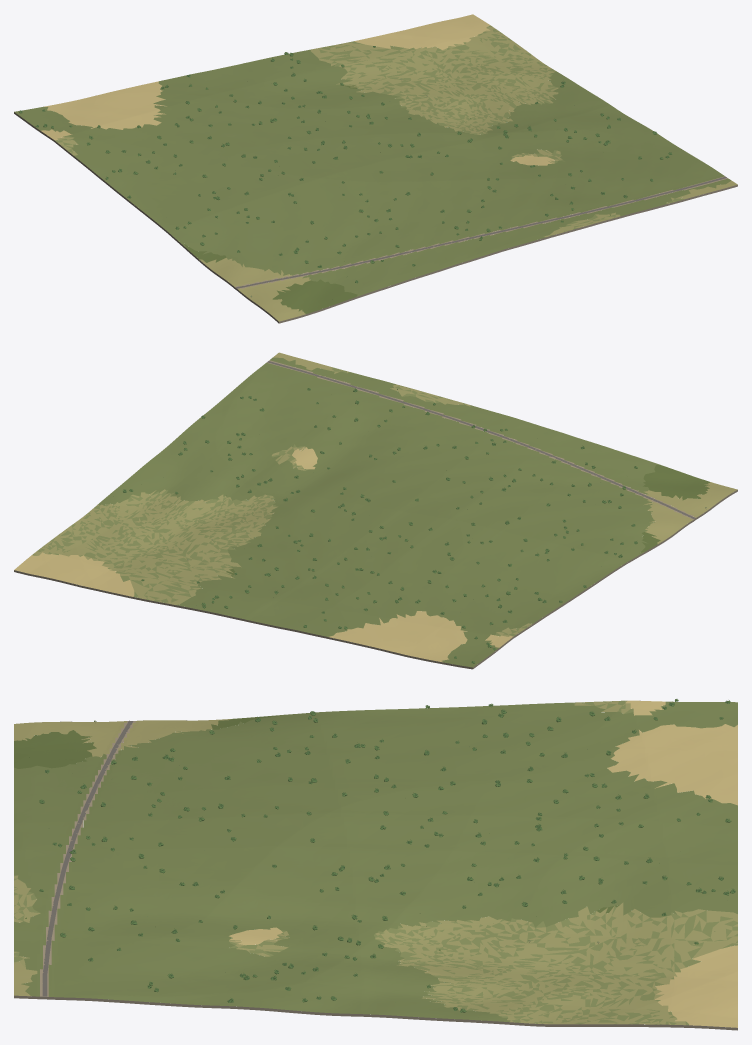
Rendered from parca_+4_-2-yakin.glb.
3 views of the same model, one above another, from view 1: azimuth 30°, elevation 25°; view 2: azimuth 150°, elevation 25°; view 3: azimuth 270°, elevation 25° (orthographic). The views are drawn at different scales.
Visible parts, largest first — view 1: parca_+4_-2_arazi, parca_+4_-2_bitkiler, parca_+4_-2_yollar; view 2: parca_+4_-2_arazi, parca_+4_-2_bitkiler, parca_+4_-2_yollar; view 3: parca_+4_-2_arazi, parca_+4_-2_bitkiler, parca_+4_-2_yollar.
Part boxes in pixels (bbox=[...]): parca_+4_-2_arazi: bbox=[14, 14, 737, 323]; parca_+4_-2_bitkiler: bbox=[19, 46, 672, 297]; parca_+4_-2_yollar: bbox=[236, 176, 726, 288]; parca_+4_-2_arazi: bbox=[14, 352, 737, 669]; parca_+4_-2_bitkiler: bbox=[122, 388, 706, 663]; parca_+4_-2_yollar: bbox=[267, 361, 695, 518]; parca_+4_-2_arazi: bbox=[14, 700, 737, 1030]; parca_+4_-2_bitkiler: bbox=[25, 699, 735, 1012]; parca_+4_-2_yollar: bbox=[42, 720, 133, 996].
Bounding box in the file's own units: 1001 × 56.41 × 1000.
